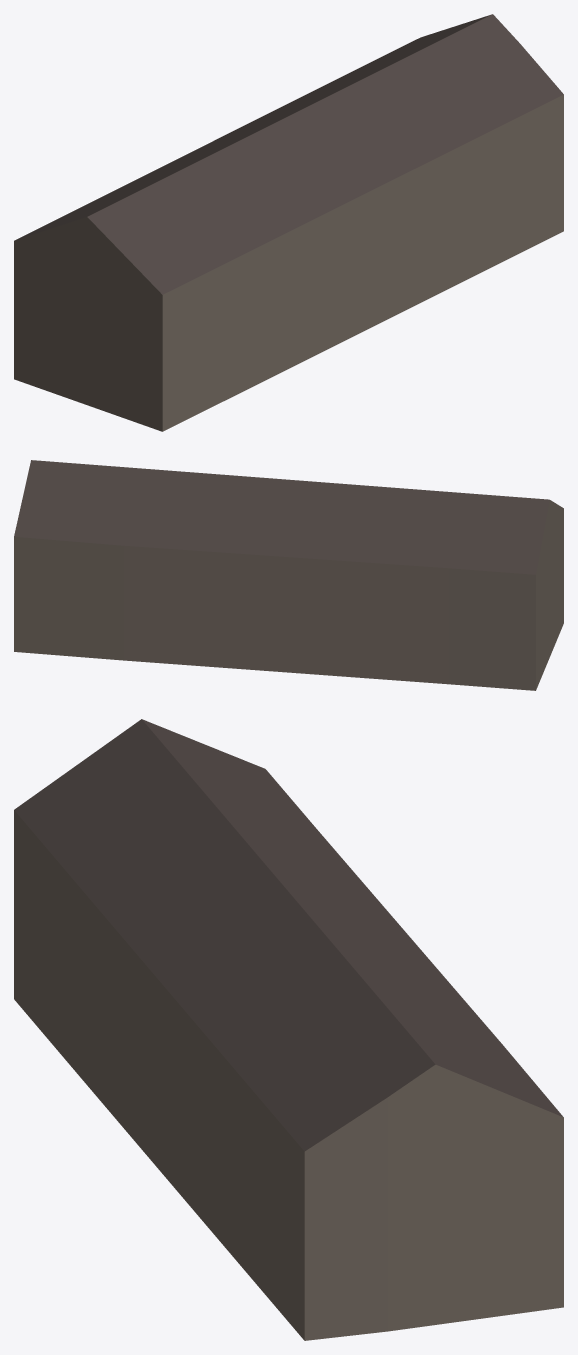
3 views of the same model, one above another, from view 1: azimuth 30°, elevation 25°; view 2: azimuth 150°, elevation 25°; view 3: azimuth 270°, elevation 25° (orthographic). The views are drawn at different scales.
Parts seen in each view (by area): view 1: HP-w1198645065; view 2: HP-w1198645065; view 3: HP-w1198645065.
Boxes of the visible parts, <box> form: HP-w1198645065: <box>14,14,563,431</box>; HP-w1198645065: <box>14,460,563,690</box>; HP-w1198645065: <box>14,719,563,1340</box>.
Size of the model in its own units: 25.87 by 8.26 by 15.8.
